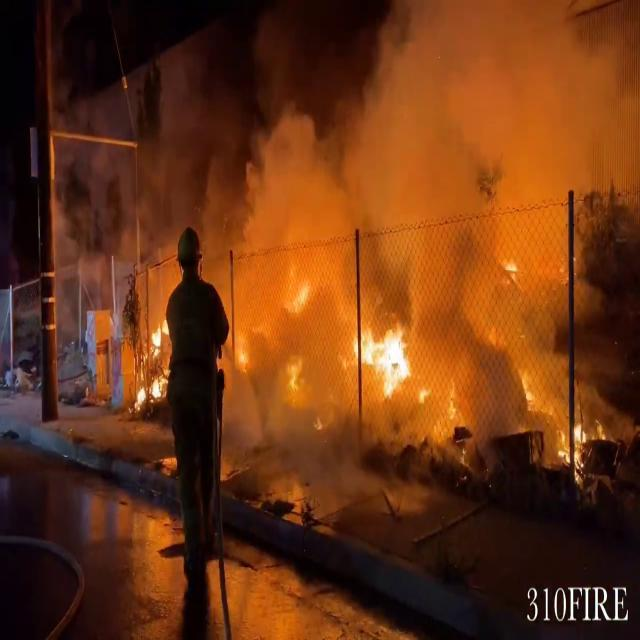Fire: (350, 311, 420, 400), (136, 308, 170, 410)
Smoke: (36, 1, 638, 457)
